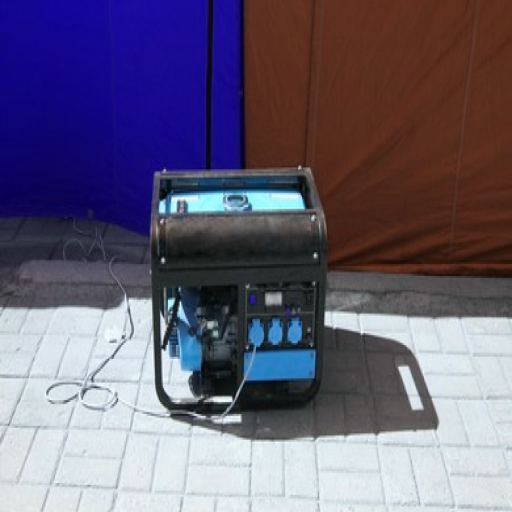portable_generator: (151, 167, 329, 414)
